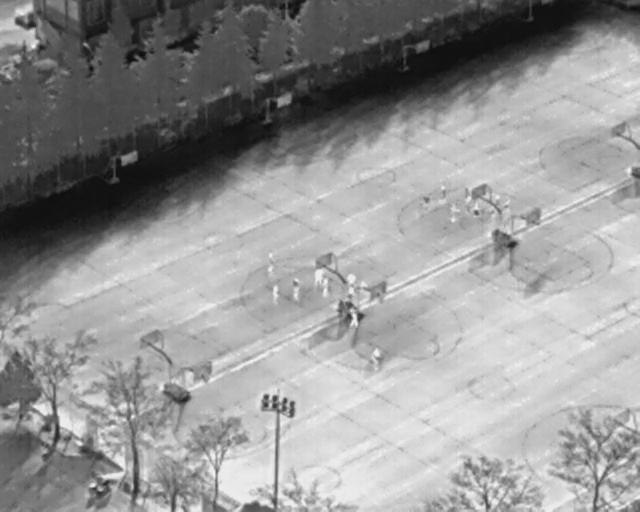Person: (371, 345, 381, 370), (465, 183, 473, 214), (347, 270, 357, 294), (267, 251, 275, 278), (349, 305, 358, 329), (451, 200, 460, 222), (315, 266, 323, 290), (272, 282, 280, 305), (292, 276, 299, 302), (424, 191, 431, 213), (441, 184, 448, 205), (473, 203, 481, 221), (322, 277, 328, 298), (490, 203, 497, 221), (503, 197, 510, 214)
